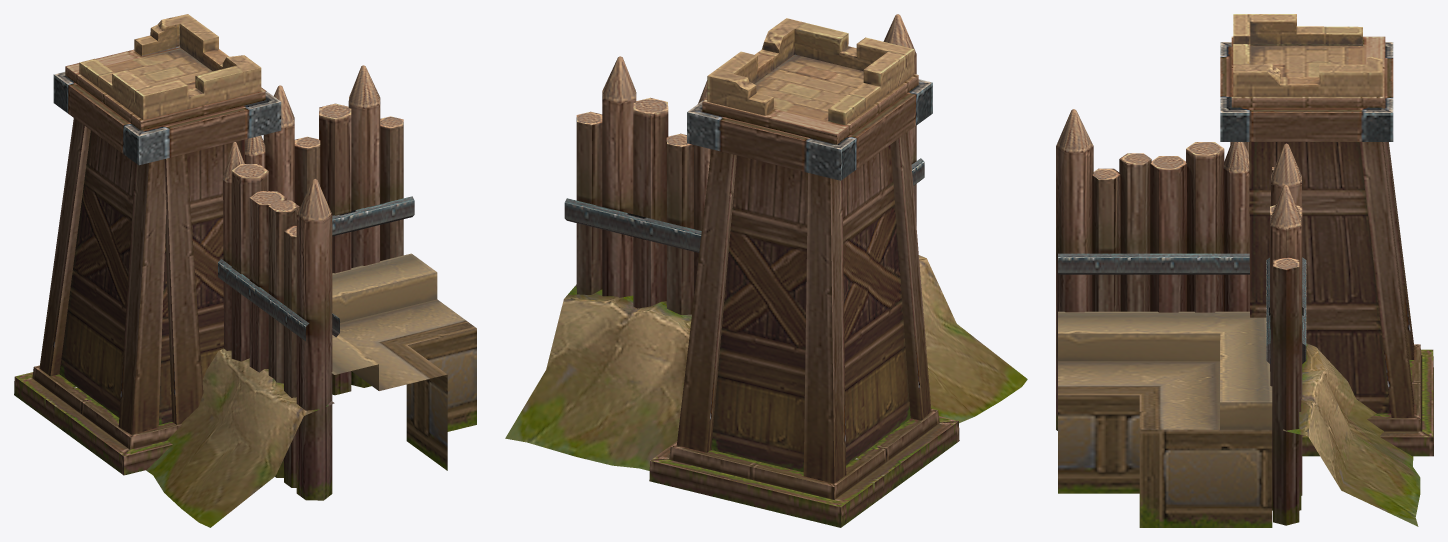
Rendered from ShiJie_ChengQiang_13.FBX.
3 views of the same model, side by side, from view 1: azimuth 30°, elevation 25°; view 2: azimuth 150°, elevation 25°; view 3: azimuth 270°, elevation 25° (orthographic). The views are drawn at different scales.
Visible parts, largest first — view 1: ShiJie_ChengQiang_13; view 2: ShiJie_ChengQiang_13; view 3: ShiJie_ChengQiang_13.
Boxes of the visible parts, box(x1,y1,x2,y2) form: ShiJie_ChengQiang_13: box(14, 14, 476, 527); ShiJie_ChengQiang_13: box(505, 14, 1027, 527); ShiJie_ChengQiang_13: box(1056, 14, 1433, 527).
Bounding box in the file's own units: 82.1 × 90.11 × 82.96.
